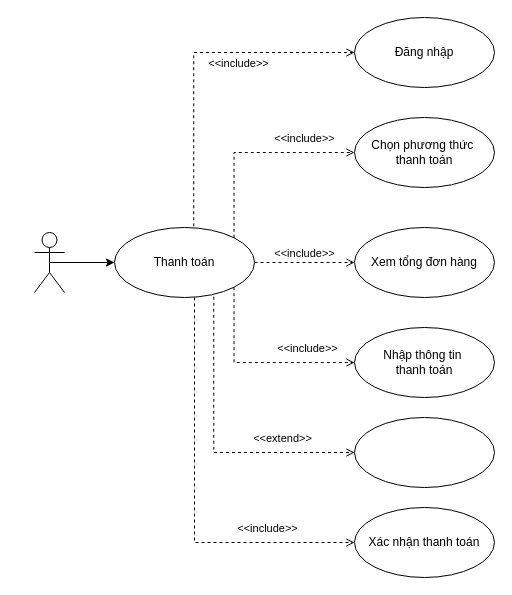
Some shapes in this 512 by 595 pixel diagram are drawn without their labels. Each missing label, with the box of its shape:
Khách hàng: (34, 232, 64, 292)
Xác thực thanh toán: (354, 416, 494, 488)
